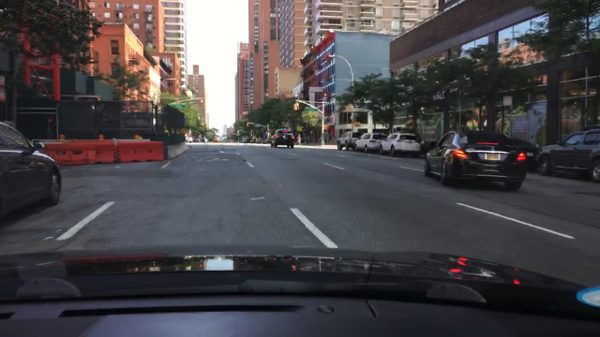car: (423, 129, 524, 191), (1, 122, 62, 218), (533, 125, 598, 181), (376, 132, 419, 159), (512, 139, 536, 175), (352, 133, 386, 154), (271, 126, 293, 150), (336, 132, 360, 152), (419, 139, 438, 160)
person: (294, 131, 302, 146)
traffic light: (345, 103, 352, 112), (352, 119, 359, 127), (292, 103, 297, 110), (198, 99, 203, 105), (297, 101, 300, 110), (246, 121, 249, 128)
traffic sign: (171, 103, 186, 111), (301, 107, 321, 112)
